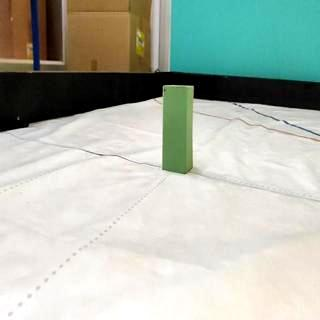greenbox: (163, 84, 194, 175)
